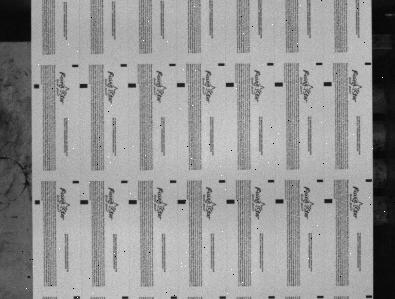backgroundclutter: (27, 276, 31, 279)
qblock: (128, 83, 137, 88), (275, 82, 284, 87), (129, 200, 137, 205), (178, 200, 186, 205), (276, 199, 284, 204), (80, 200, 88, 205), (325, 199, 333, 204), (177, 83, 185, 88), (226, 82, 234, 87), (324, 82, 332, 87), (79, 84, 88, 88), (227, 200, 235, 204), (34, 84, 39, 89), (35, 201, 40, 205)
smallqblock: (169, 63, 176, 67), (170, 180, 177, 184), (316, 62, 324, 65), (72, 64, 79, 67), (120, 64, 127, 67), (218, 63, 225, 66), (268, 180, 275, 183), (219, 180, 226, 183), (121, 181, 128, 184), (72, 181, 79, 184), (267, 63, 274, 66), (317, 180, 324, 183), (268, 296, 275, 299), (121, 296, 128, 299), (170, 296, 177, 299), (73, 296, 80, 299), (317, 296, 324, 299), (219, 296, 226, 299), (365, 62, 372, 65), (366, 179, 373, 182), (366, 296, 373, 299)
